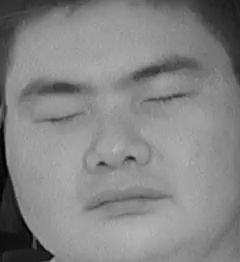blink: (142, 77, 199, 113), (35, 101, 88, 135)
mouth: (76, 177, 172, 225)
